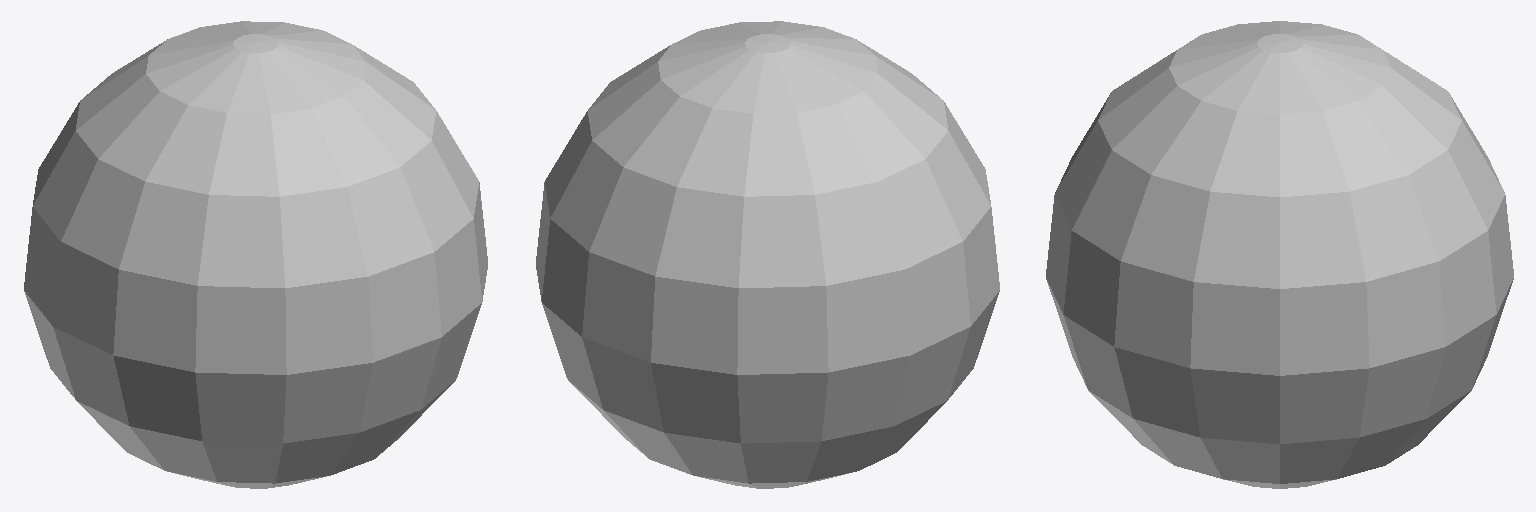
The model's file is SimpleSphere.obj.
3 views of the same model, side by side, from view 1: azimuth 30°, elevation 25°; view 2: azimuth 150°, elevation 25°; view 3: azimuth 270°, elevation 25° (orthographic).
Parts seen in each view (by area): view 1: Sphere; view 2: Sphere; view 3: Sphere.
Boxes of the visible parts, <box> form: Sphere: <box>24,21,487,488</box>; Sphere: <box>536,21,999,488</box>; Sphere: <box>1046,21,1513,488</box>.
Size of the model in its own units: 1.99 by 2 by 1.99.